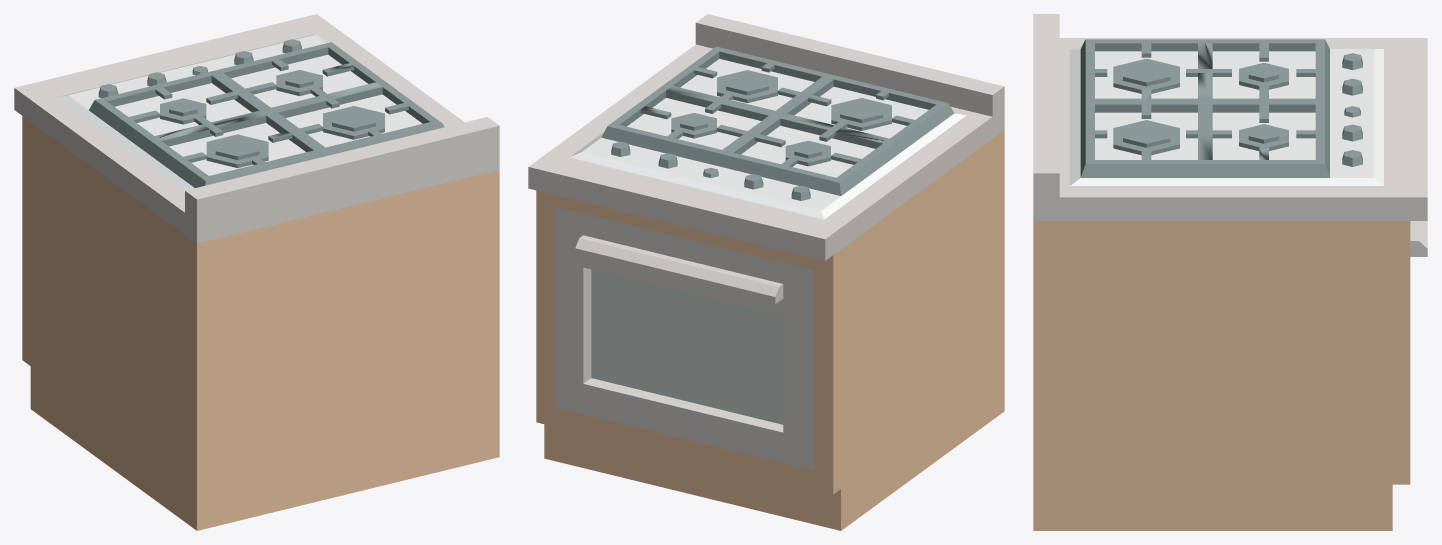
Rendered from Furniture_Stovetop_GasMixedMats.fbx.
3 renders of one model, left to right at view 1: azimuth 30°, elevation 25°; view 2: azimuth 150°, elevation 25°; view 3: azimuth 270°, elevation 25°, orthographic. The views are drawn at different scales.
Visible parts, largest first — view 1: door.001; view 2: door.001; view 3: door.001.
Part boxes in pixels (<box>): door.001: <box>14,14,499,530</box>; door.001: <box>528,14,1004,530</box>; door.001: <box>1033,14,1427,530</box>.
Bounding box in the file's own units: 107 × 112 × 112.
